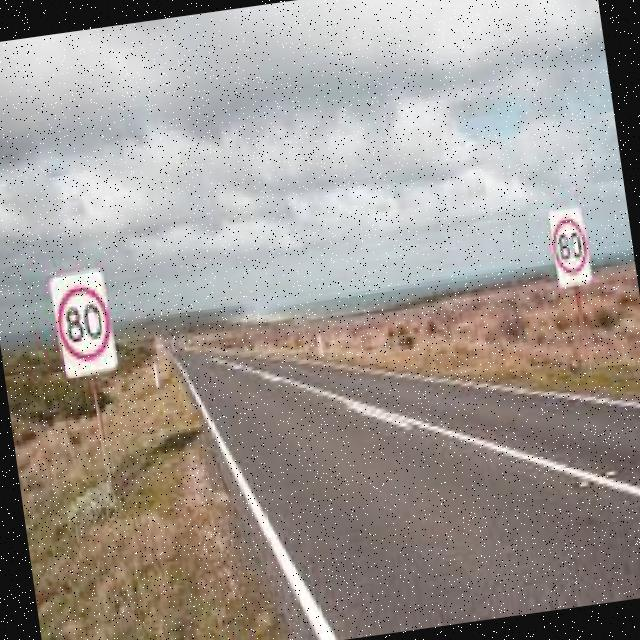Ograniczenie predkosci do 80: (50, 282, 118, 369), (546, 214, 594, 278)
